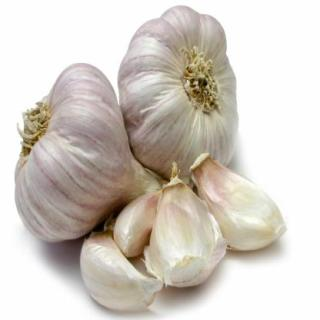Bawang Putih: (14, 63, 156, 246), (119, 6, 240, 181), (192, 154, 289, 253), (151, 180, 223, 289), (81, 233, 160, 312)
